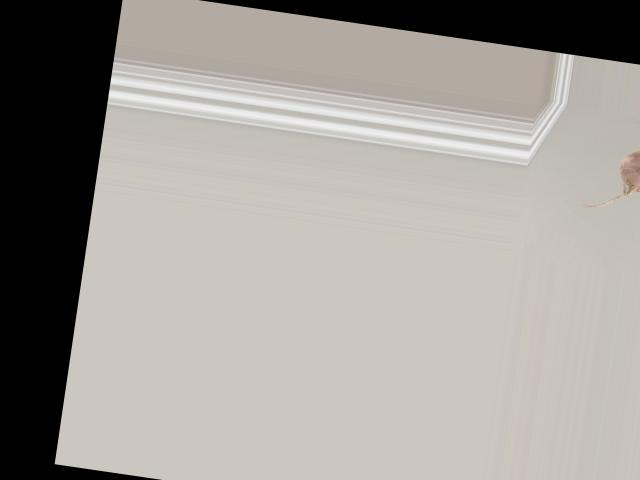beet: (580, 109, 640, 218)
